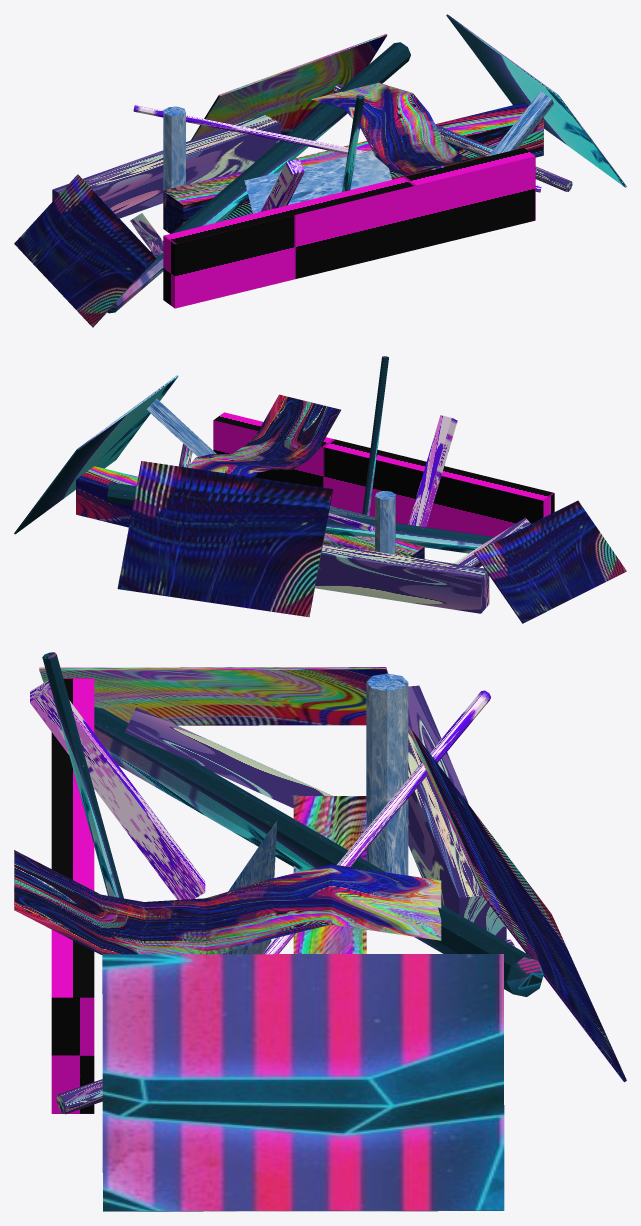
Rendered from scrap_metal_wall_2.fbx.
3 renders of one model, top to bottom at view 1: azimuth 30°, elevation 25°; view 2: azimuth 150°, elevation 25°; view 3: azimuth 270°, elevation 25°, orthographic. The views are drawn at different scales.
Parts seen in each view (by area): view 1: Cube.005, Cube.007, Cube.002, Cube, Plane.007, Cylinder.004, Cube.001, Cube.008, Plane.004, Cylinder.008, Cylinder.007, Cube.004 (+4 smaller); view 2: Cube, Cube.005, Cube.007, Cube.002, Plane.007, Cube.008, Cube.001, Cylinder.004, Cube.006, Cylinder.008, Cylinder.009, Cube.004 (+1 smaller); view 3: Cube.008, Plane.007, Cube.007, Cylinder.004, Cube.005, Cube, Cube.002, Cylinder.008, Cube.006, Cube.003, Cube.001, Cylinder.009 (+3 smaller).
Boxes of the visible parts, x1,y1,x2,y2 form: Cube.005: (163, 147, 535, 308); Cube.007: (14, 174, 156, 327); Cube.002: (52, 114, 280, 218); Cube: (190, 34, 387, 140); Plane.007: (311, 82, 494, 175); Cylinder.004: (107, 42, 410, 313); Cube.001: (163, 102, 543, 233); Cube.008: (446, 14, 626, 187); Plane.004: (244, 151, 391, 213); Cylinder.008: (163, 106, 185, 190); Cylinder.007: (133, 105, 541, 192); Cube.004: (488, 91, 553, 156); Cube: (117, 461, 332, 617); Cube.005: (213, 412, 554, 536); Cube.007: (474, 500, 626, 623); Cube.002: (315, 543, 489, 613); Plane.007: (188, 394, 340, 477); Cube.008: (14, 375, 178, 534); Cube.001: (76, 466, 424, 558); Cylinder.004: (106, 482, 494, 553); Cube.006: (408, 415, 457, 527); Cylinder.008: (375, 491, 395, 554); Cylinder.009: (362, 356, 388, 515); Cube.004: (146, 398, 216, 456); Cube.008: (102, 954, 504, 1211); Plane.007: (14, 850, 441, 954); Cube.007: (39, 667, 388, 725); Cylinder.004: (94, 707, 543, 996); Cube.005: (51, 678, 94, 1113); Cube: (409, 729, 626, 1082); Cube.002: (408, 685, 506, 940); Cylinder.008: (366, 673, 408, 875); Cube.006: (30, 680, 205, 899); Cube.003: (125, 707, 332, 808); Cube.001: (293, 796, 366, 953); Cylinder.009: (42, 652, 123, 898).
Bounding box in the file's own units: 156 × 46.79 × 83.55.
6 materials, 6 textured.
